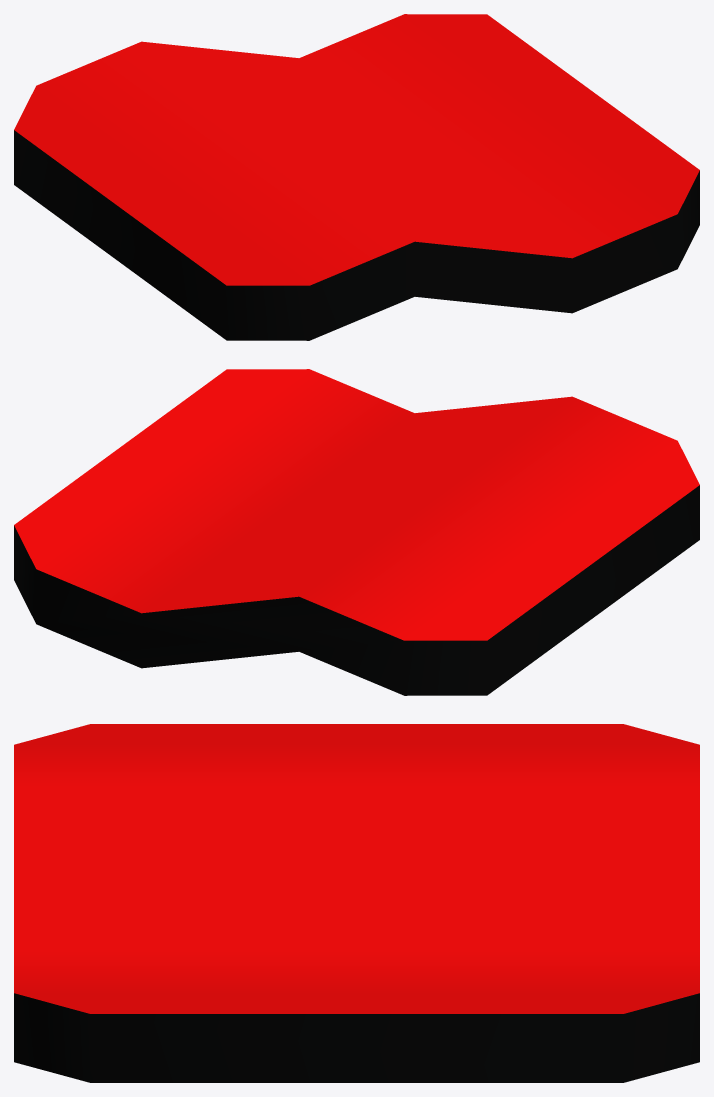
File: debris-plate-b.glb
The picture shows the model from 3 angles, top to bottom: view 1: azimuth 30°, elevation 25°; view 2: azimuth 150°, elevation 25°; view 3: azimuth 270°, elevation 25°; orthographic projection. The views are drawn at different scales.
Parts seen in each view (by area): view 1: debris-plate-b; view 2: debris-plate-b; view 3: debris-plate-b.
Part boxes in pixels (bbox=[...]): debris-plate-b: bbox=[14, 14, 699, 340]; debris-plate-b: bbox=[14, 369, 699, 695]; debris-plate-b: bbox=[14, 724, 699, 1082].
Bounding box in the file's own units: 0.9 × 0.2001 × 0.9.
Materials: 1 (1 with a texture image).
